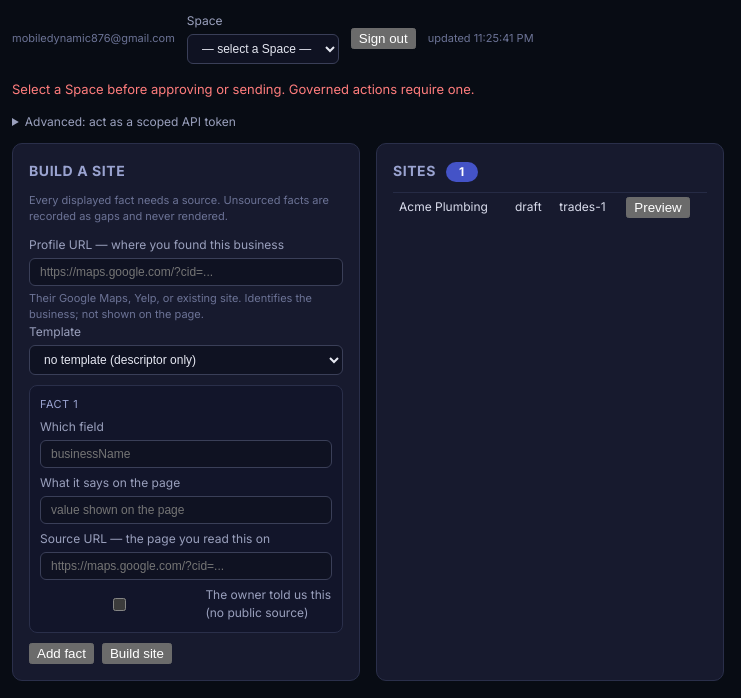
Scenario: preview viewer › surfaces a failed preview request
Click the button "Preview" at (658, 207), box [626, 196, 690, 218]
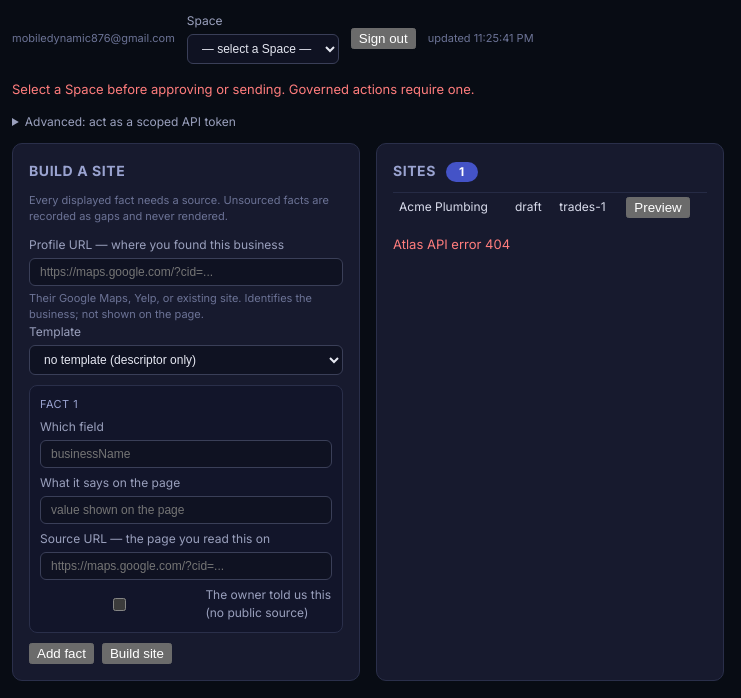
Check: the message "Atlas API error 404" is shown, box [393, 236, 510, 252]
